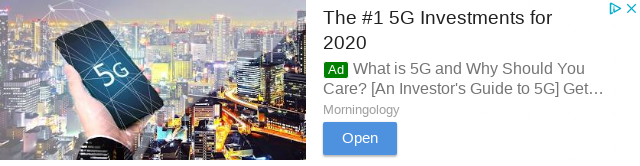fake_button: (317, 119, 408, 162)
